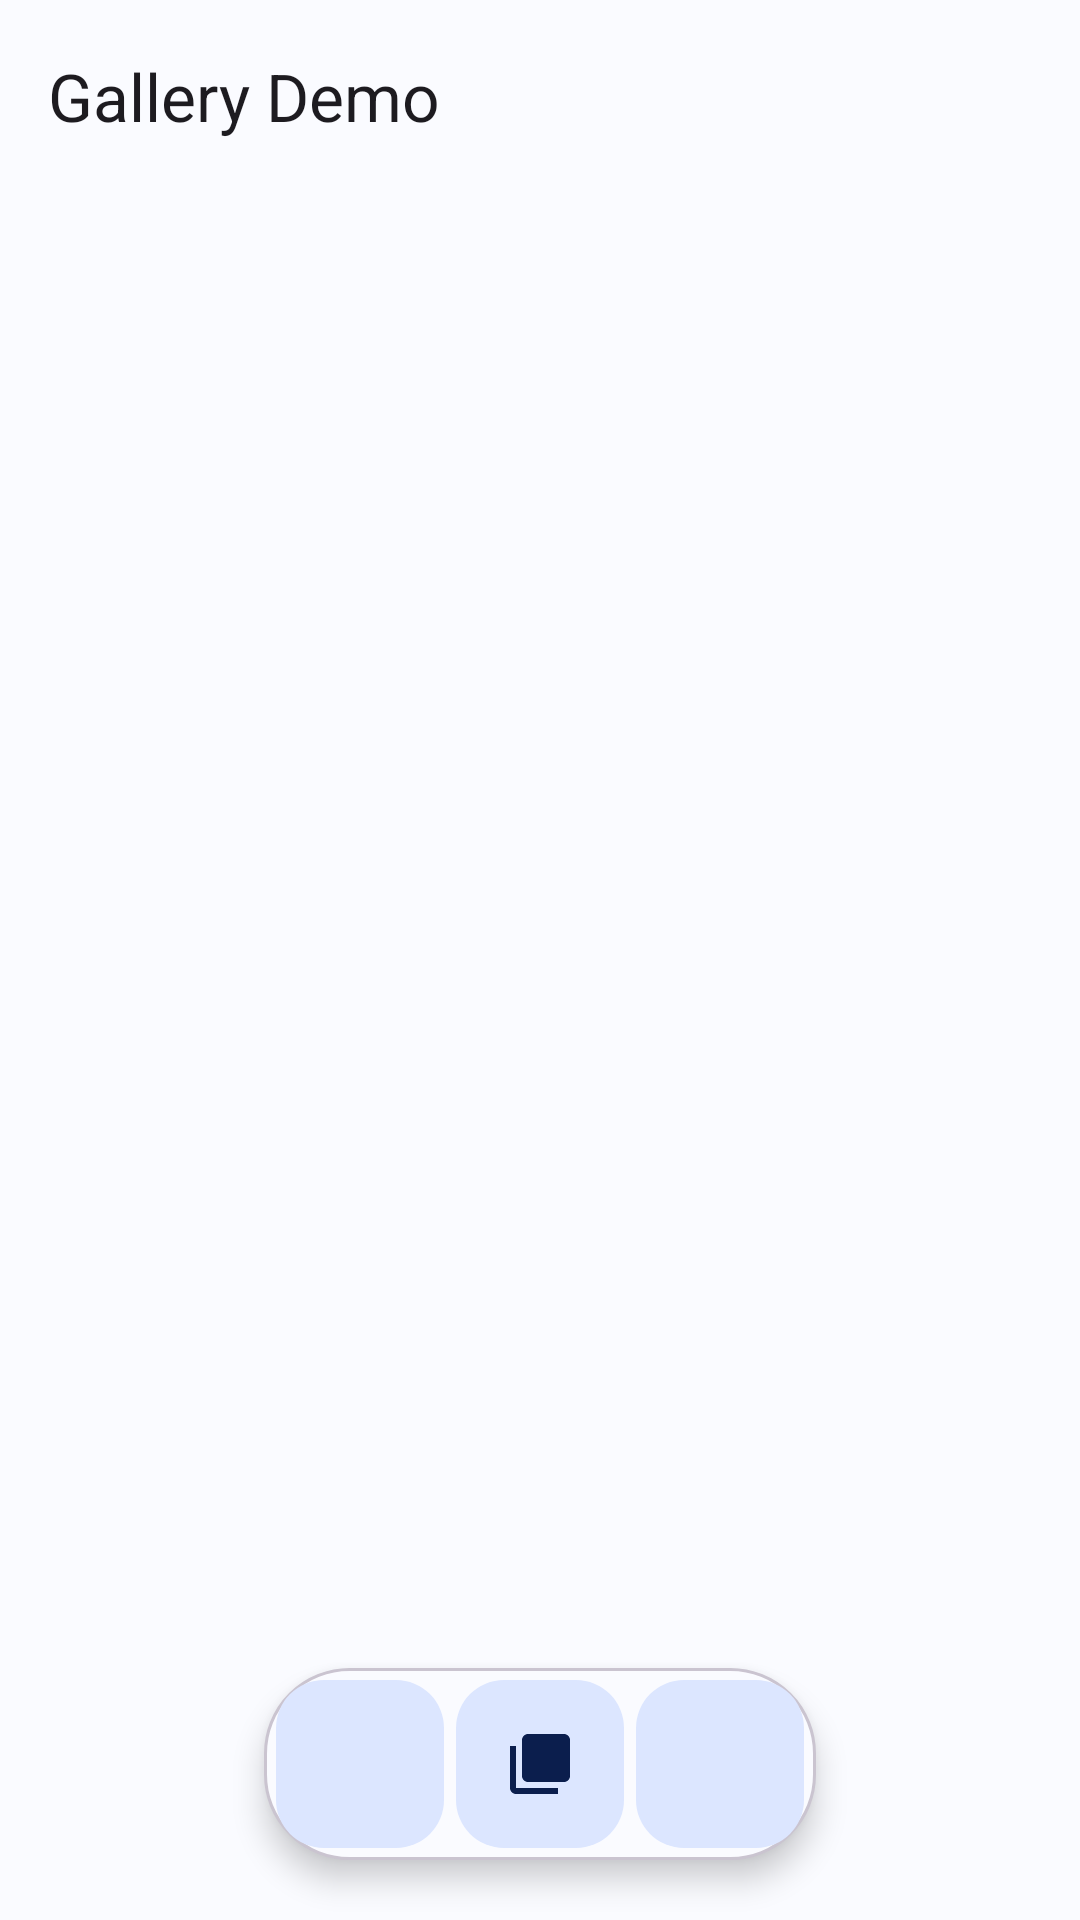

Icon bounding boxes for this 1080w x 1920h phone screenshot, format (x1, y1, x2, y2):
albums: (456, 1680, 624, 1848)
